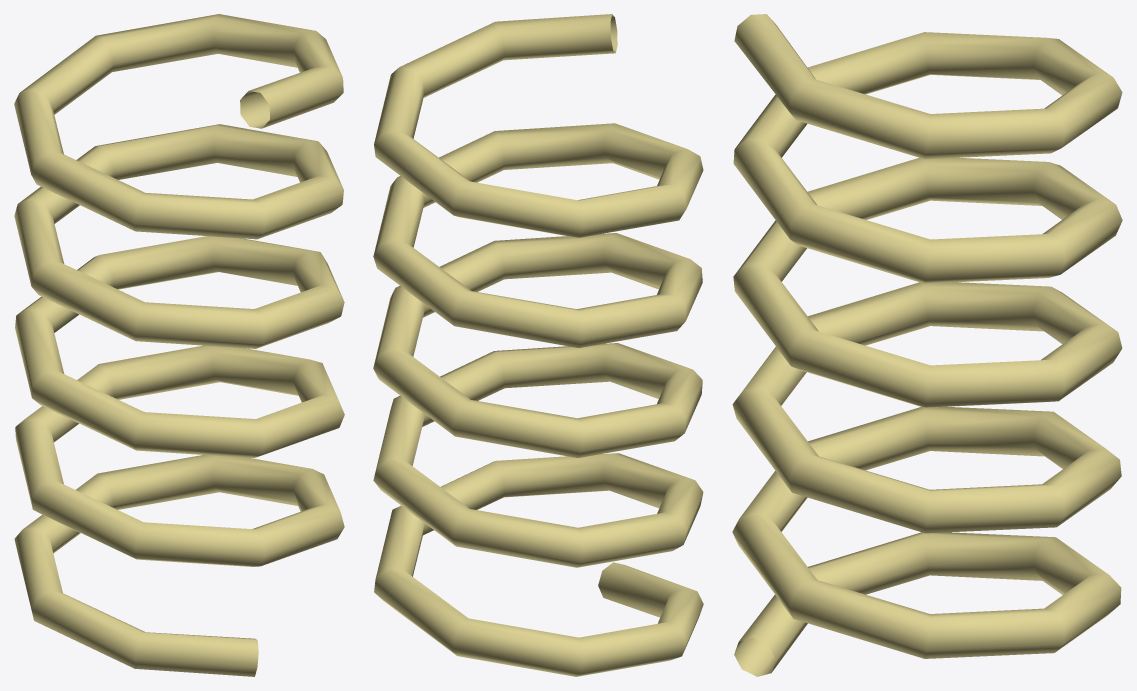
Rendered from Spring-rigged.dae.
3 views of the same model, side by side, from view 1: azimuth 30°, elevation 25°; view 2: azimuth 150°, elevation 25°; view 3: azimuth 270°, elevation 25° (orthographic). The views are drawn at different scales.
Parts seen in each view (by area): view 1: Spring-mesh; view 2: Spring-mesh; view 3: Spring-mesh.
Part boxes in pixels (x1,y1,x2,y2): Spring-mesh: (14,14,344,676); Spring-mesh: (373,14,703,676); Spring-mesh: (732,14,1122,676).
Size of the model in its own units: 2.26 by 2.27 by 4.26.
